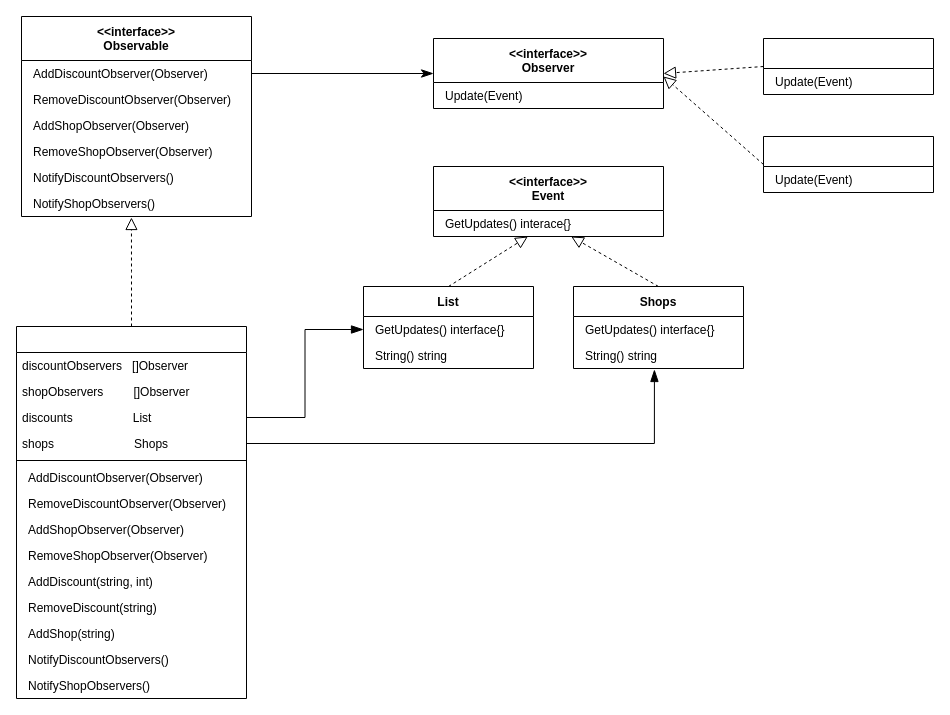
Image size: 950x715. Some labels were removed from this diagram. The shapes that lost their labels are listed below. From the top down, each one's box as (x1, y1, x2, y2) in pixels, then its label:
(762, 38, 934, 94): ClientSMS
(762, 136, 934, 192): TVChannel
(16, 326, 246, 698): DiscountCenter
